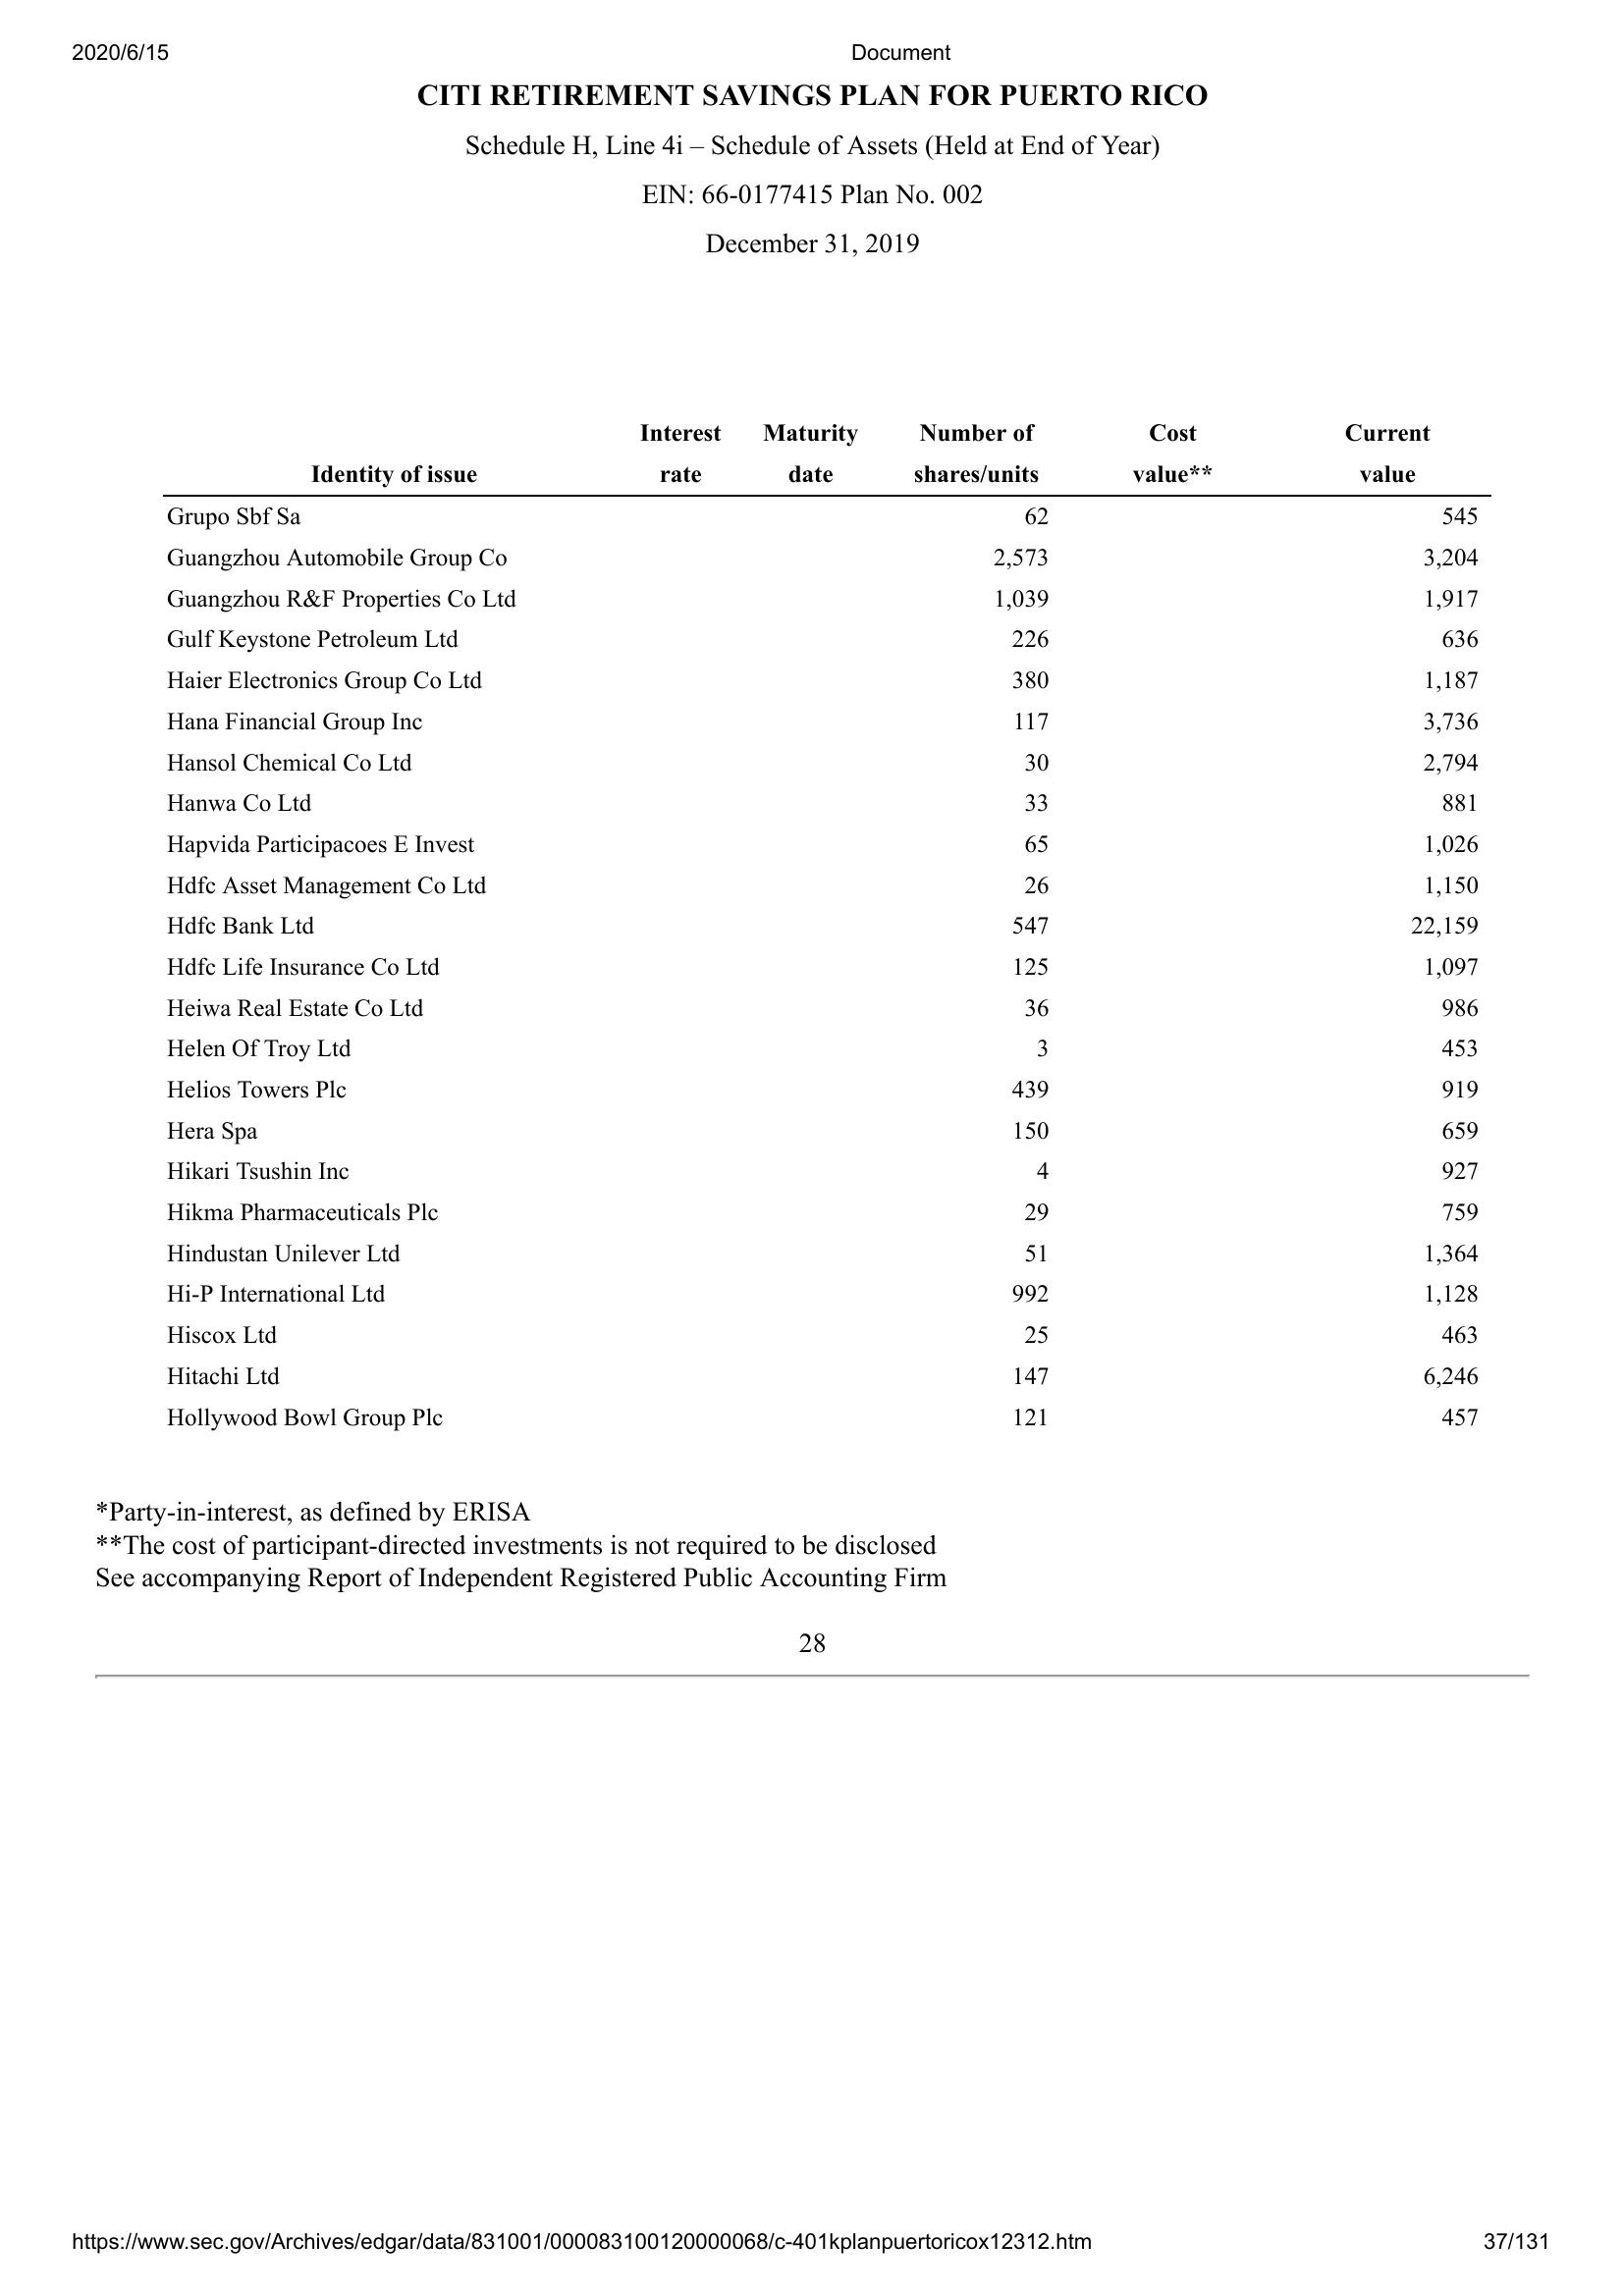table: (158, 413, 1497, 1452)
